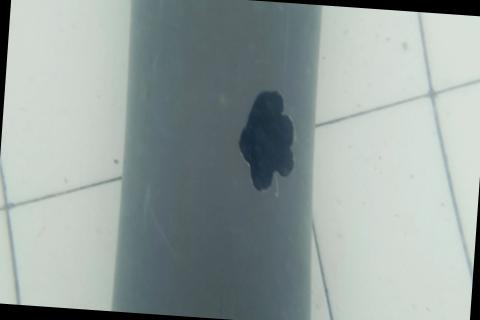kebocoran: (233, 85, 302, 195)
